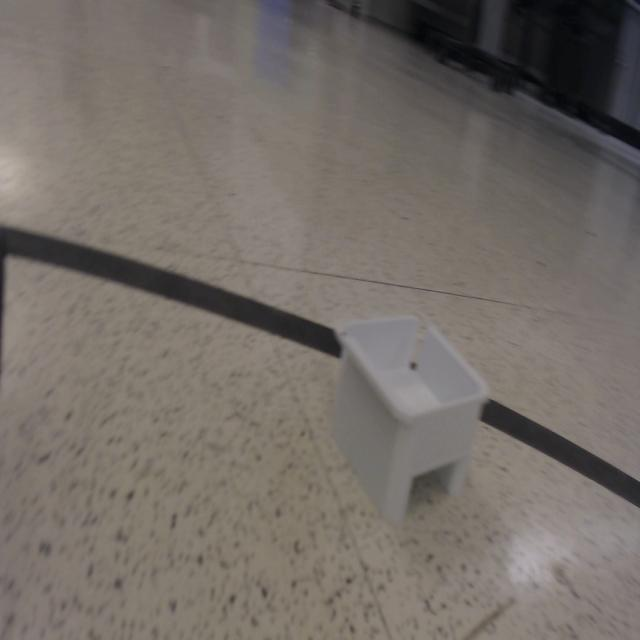wbox: (329, 307, 491, 529)
